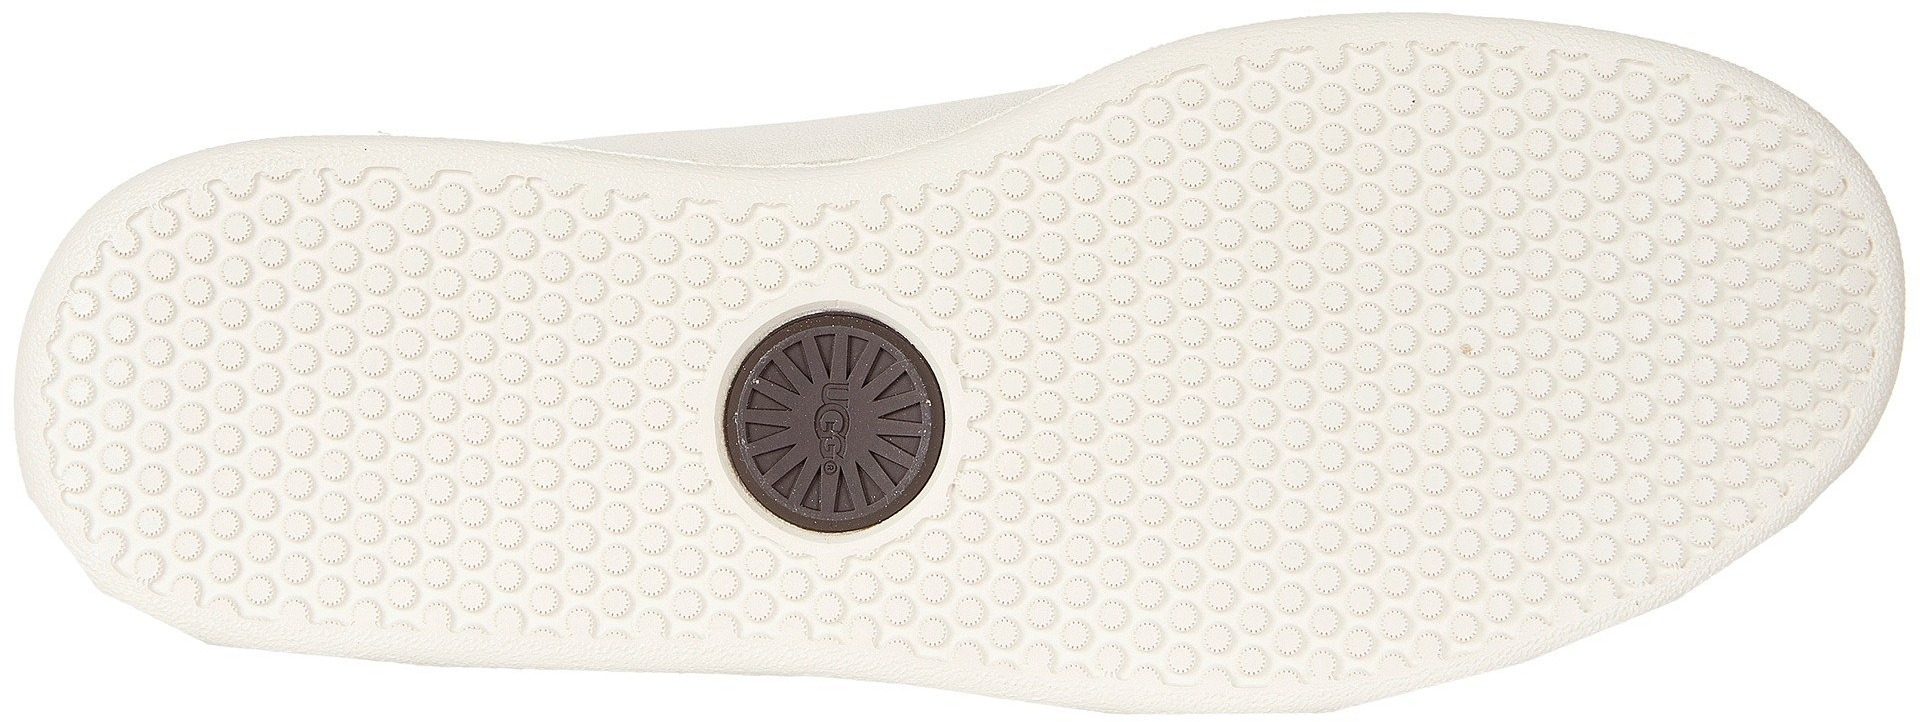circle: (710, 281, 951, 541)
star: (1297, 76, 1664, 423), (360, 168, 686, 488), (982, 175, 1300, 492), (80, 252, 340, 505), (710, 281, 951, 541), (1307, 430, 1522, 644), (1033, 498, 1213, 669), (419, 493, 564, 642)
text: (710, 281, 951, 541), (800, 381, 866, 477), (800, 387, 867, 449)
triangle: (710, 281, 951, 541)
